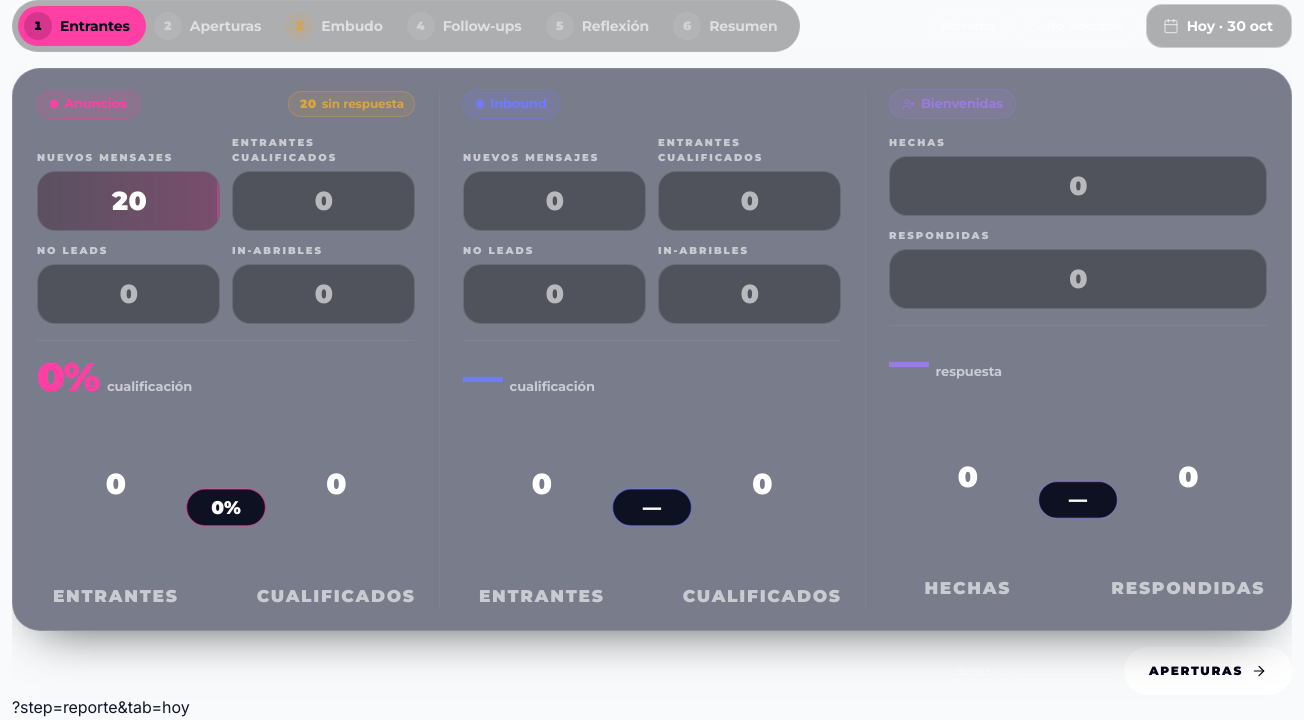
Scenario: ReporteDiario · de dónde salen los números › la precarga no pisa lo que el setter dejó escrito en su borrador
Check: the field named "Anuncios, nuevos mensajes" holds "20", box x1=38 y1=172 x2=219 y2=230
Click the button "Aperturas": (1208, 671) x1=1124 y1=647 x2=1292 y2=695
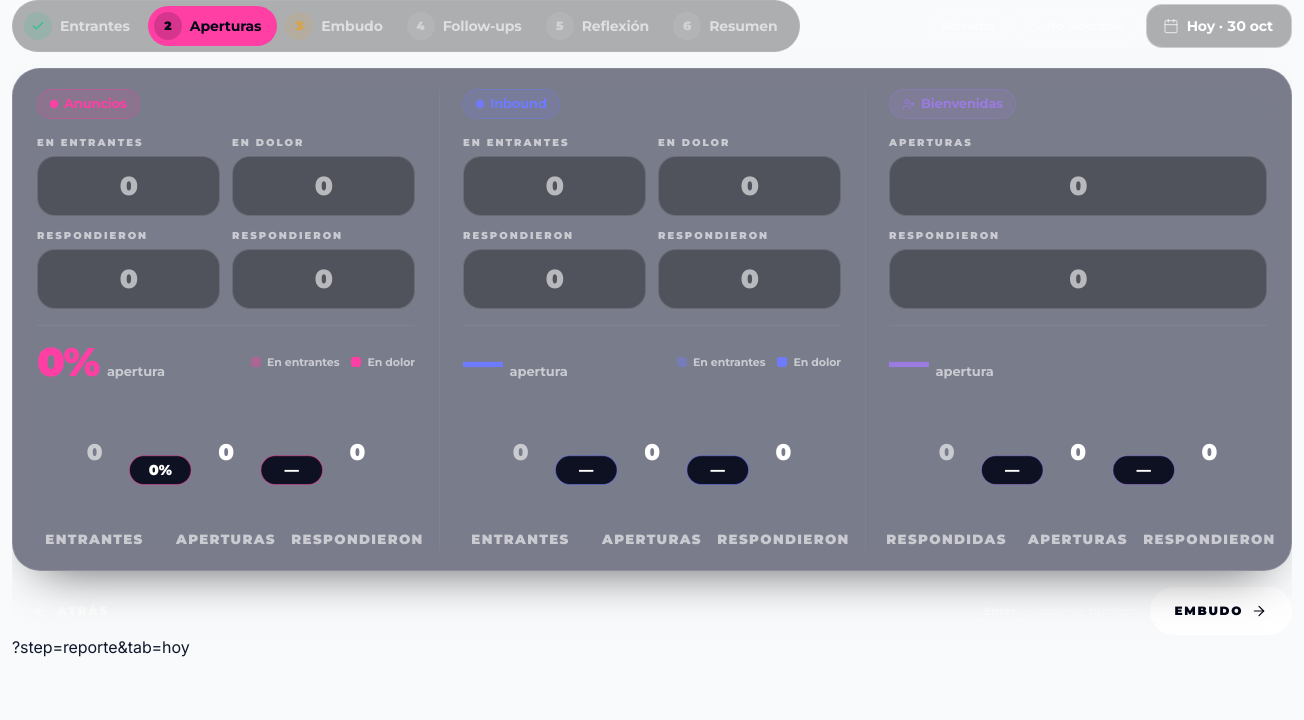
Click the button "Embudo": (1221, 611) x1=1150 y1=587 x2=1292 y2=635
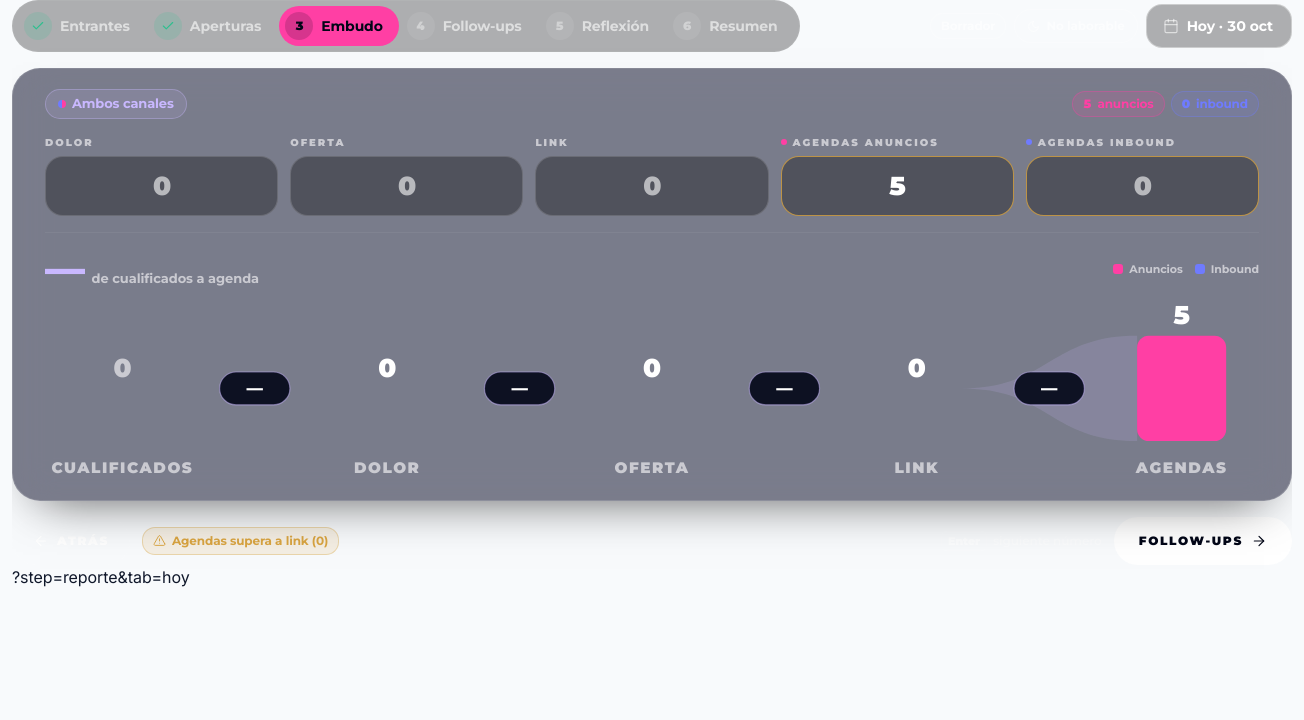
Check: the field named "Agendas de anuncios" holds "5", box x1=782 y1=157 x2=1013 y2=215
